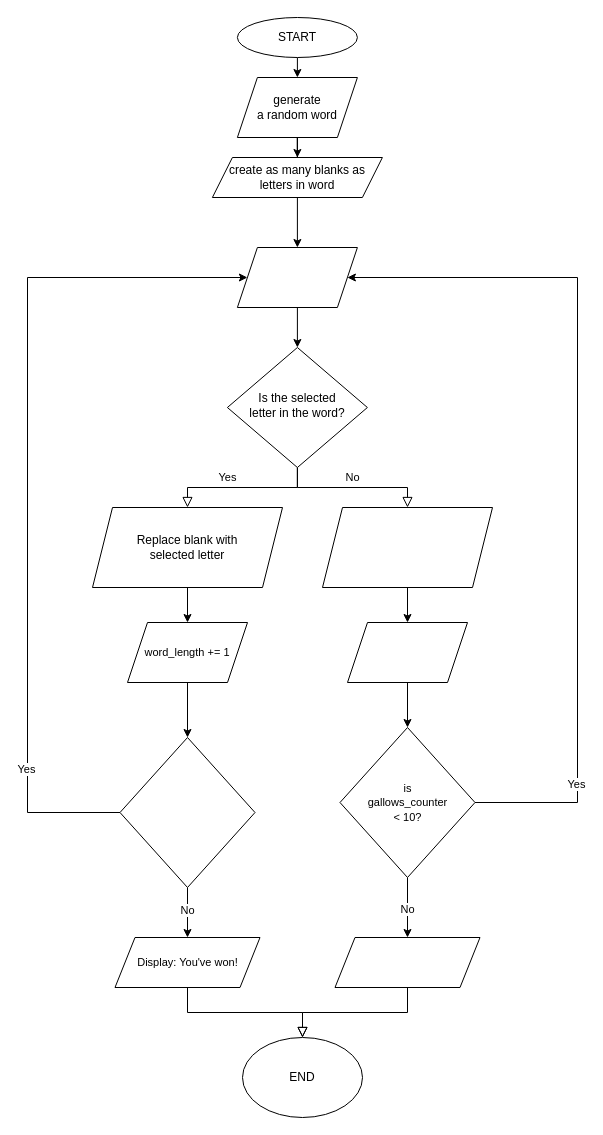
Image size: 603x1135. Some labels were removed from this diagram. Here are the shapes that lost their labels. From the top down, the centre of each, then its label:
At pixel 296 277: "ask user to choose a letter".
At pixel 407 547: "Display 1st part of gallows".
At pixel 407 652: "gallows_counter += 1".
At pixel 187 812: "is word_length NOT == blanks_length ?".
At pixel 407 962: "Display: You've lost!".
